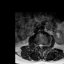CCS_normal: (40, 41, 42, 51)
LFS_normal: (43, 41, 45, 48)
LLS_normal: (42, 41, 43, 49)
RFS_stenosis: (36, 42, 38, 49)
RLS_normal: (38, 41, 40, 49)
